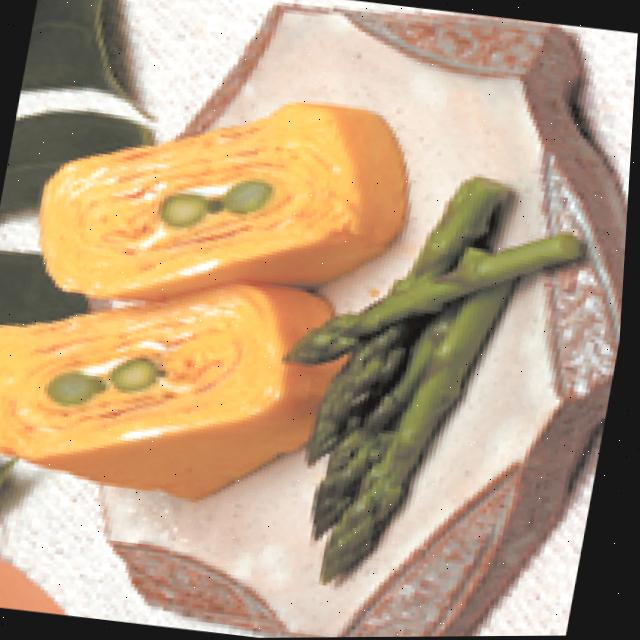鸡蛋料理: (0, 57, 436, 523)
